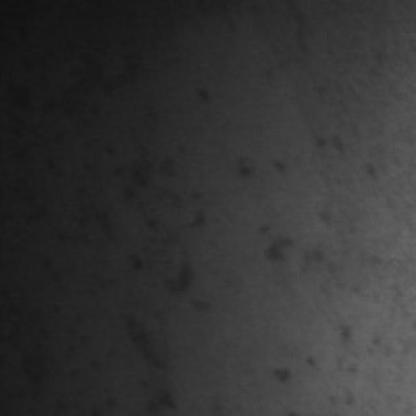pitted_surface: (258, 116, 389, 400), (112, 123, 208, 412)
